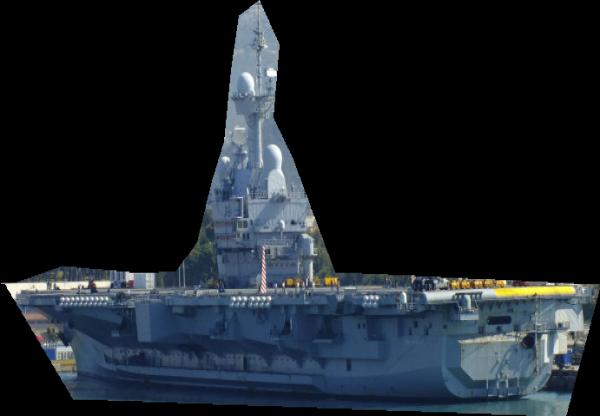Aircraft Carrier: (1, 0, 600, 416)
